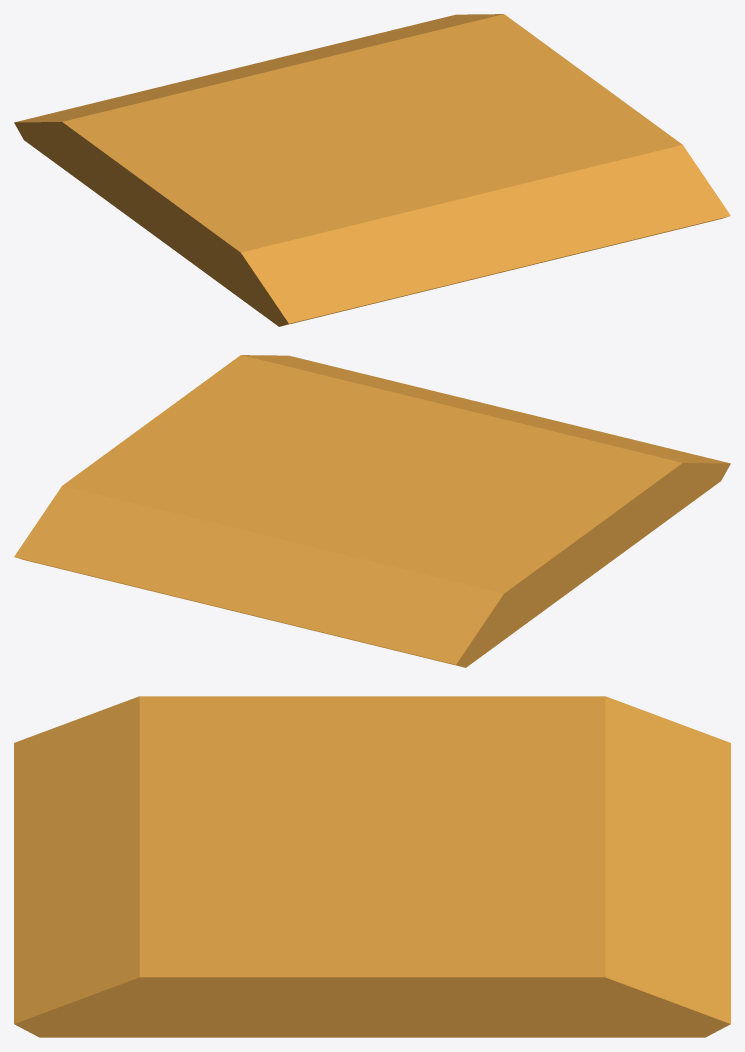
Rendered from scifi-scifi-roof-lights-corridor.glb.
The picture shows the model from 3 angles, top to bottom: view 1: azimuth 30°, elevation 25°; view 2: azimuth 150°, elevation 25°; view 3: azimuth 270°, elevation 25°; orthographic projection. The views are drawn at different scales.
Visible parts, largest first — view 1: scifi-roof-lights-corridor; view 2: scifi-roof-lights-corridor; view 3: scifi-roof-lights-corridor.
Part boxes in pixels (x1,y1,x2,y2): scifi-roof-lights-corridor: (14,14,730,326); scifi-roof-lights-corridor: (14,355,730,667); scifi-roof-lights-corridor: (14,696,730,1037).
Bounding box in the file's own units: 4 × 0.4 × 4.31.
